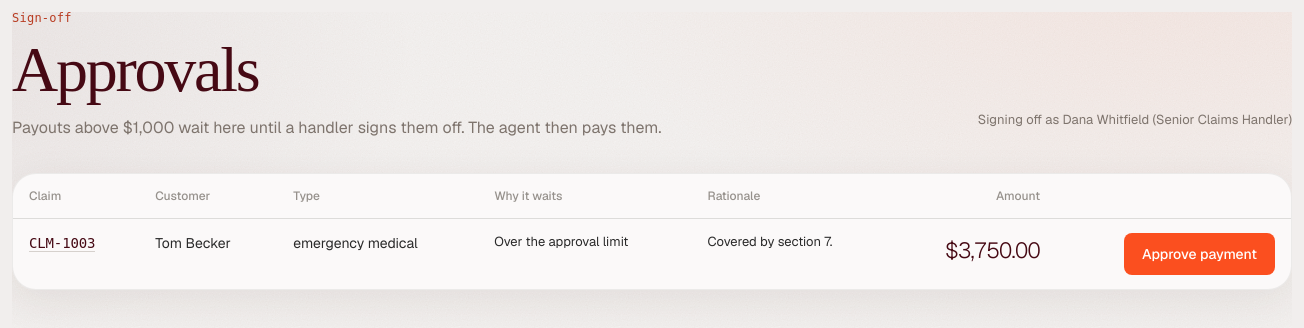
Scenario: Approvals › lists held payments, and approving signs off as the signed-in handler with no name to choose
The width and height of the screenshot is (1304, 328).
Expected: the link "CLM-1003" is shown, [29,235,95,252]
Expected: the text "$3,750.00" is shown, [893,218,1056,289]
What coordinates should you click on to do the following:
click the button "Approve payment"
I would click on:
 (1200, 254)
Its box is [1124,233,1275,275].
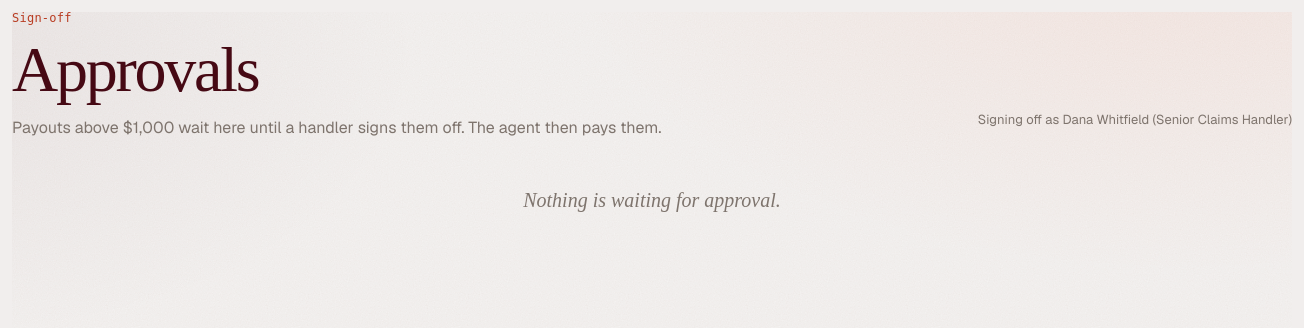
Expected: the text "Nothing is waiting for approval." is shown, [523,189,781,211]
